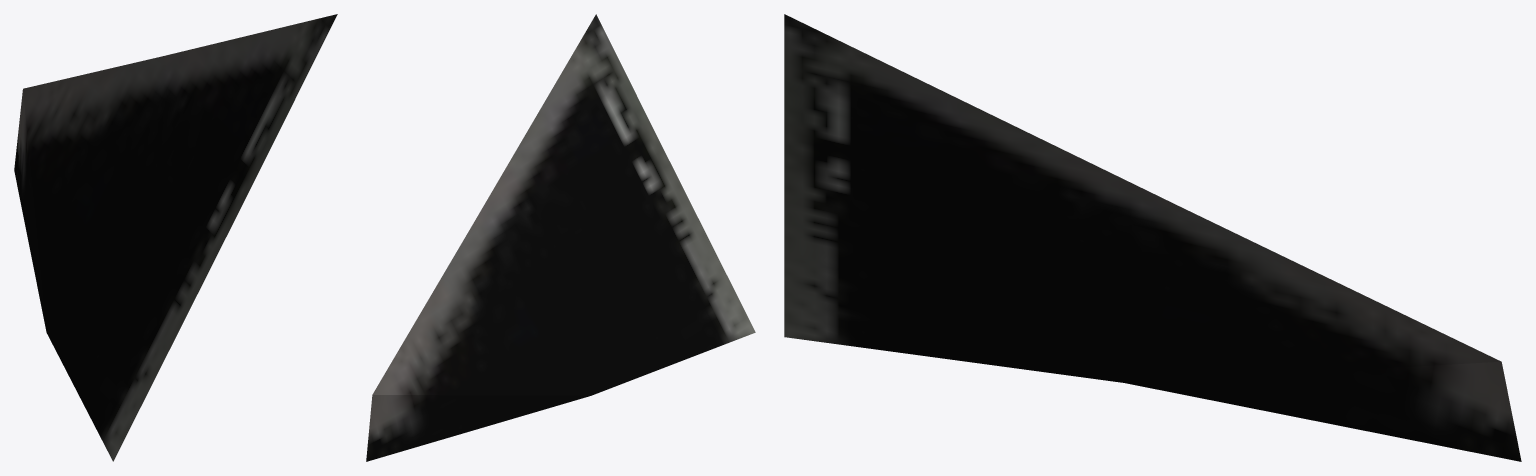
3 renders of one model, left to right at view 1: azimuth 30°, elevation 25°; view 2: azimuth 150°, elevation 25°; view 3: azimuth 270°, elevation 25°, orthographic. The views are drawn at different scales.
Size of the model in its own units: 0.3008 by 0.5035 by 0.7509.
1 material, 1 textured.
